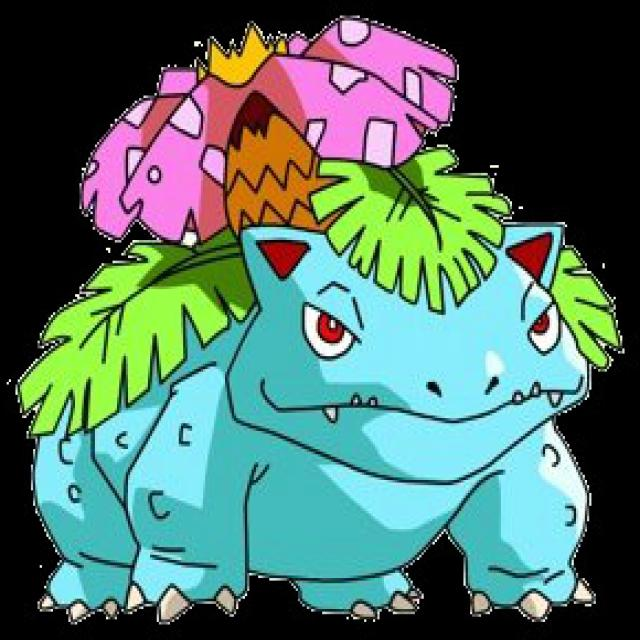Venusaur: (76, 12, 590, 604)
